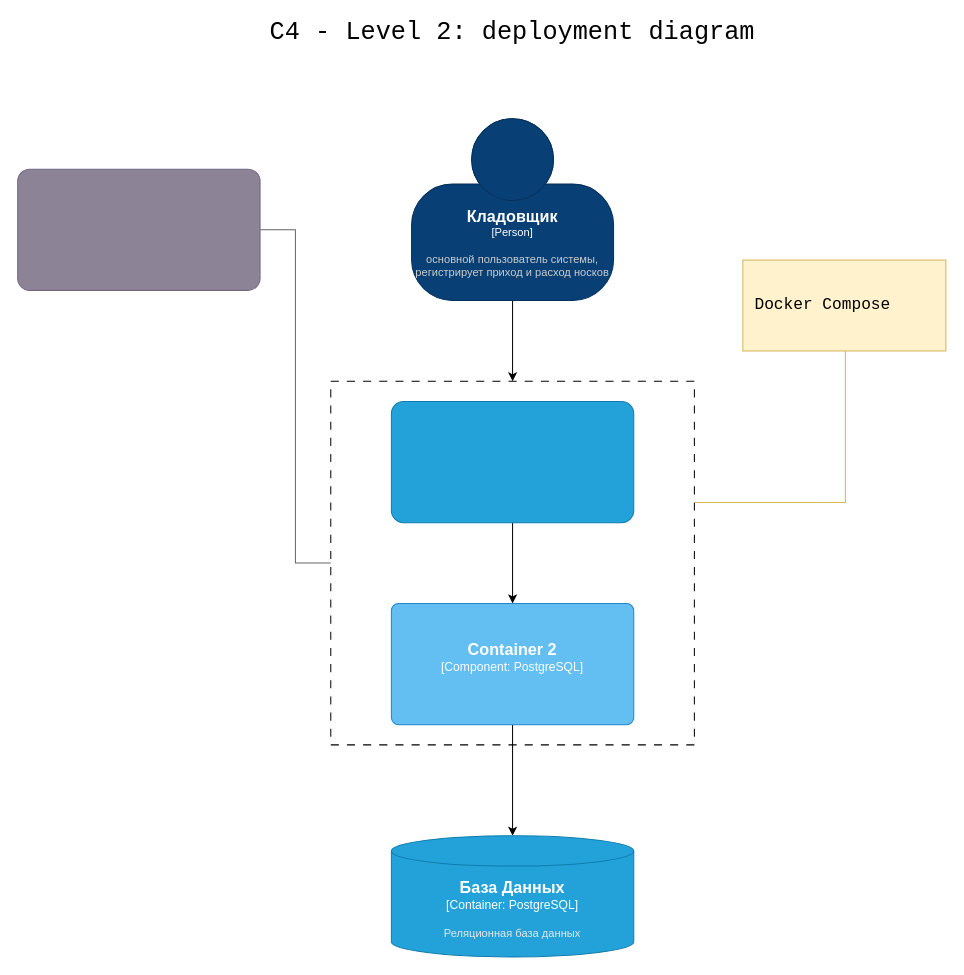
This 964x975 diagram has some shape labels left out. The box of each missing label's shape, as (x1, y1, x2, y2) in pixels:
Container 1 [Container: Nginx + PHP] Nginx + PHP: (390, 400, 634, 523)
Postman [Software System] HTTP-клиент для тестирования API: (17, 168, 260, 290)
